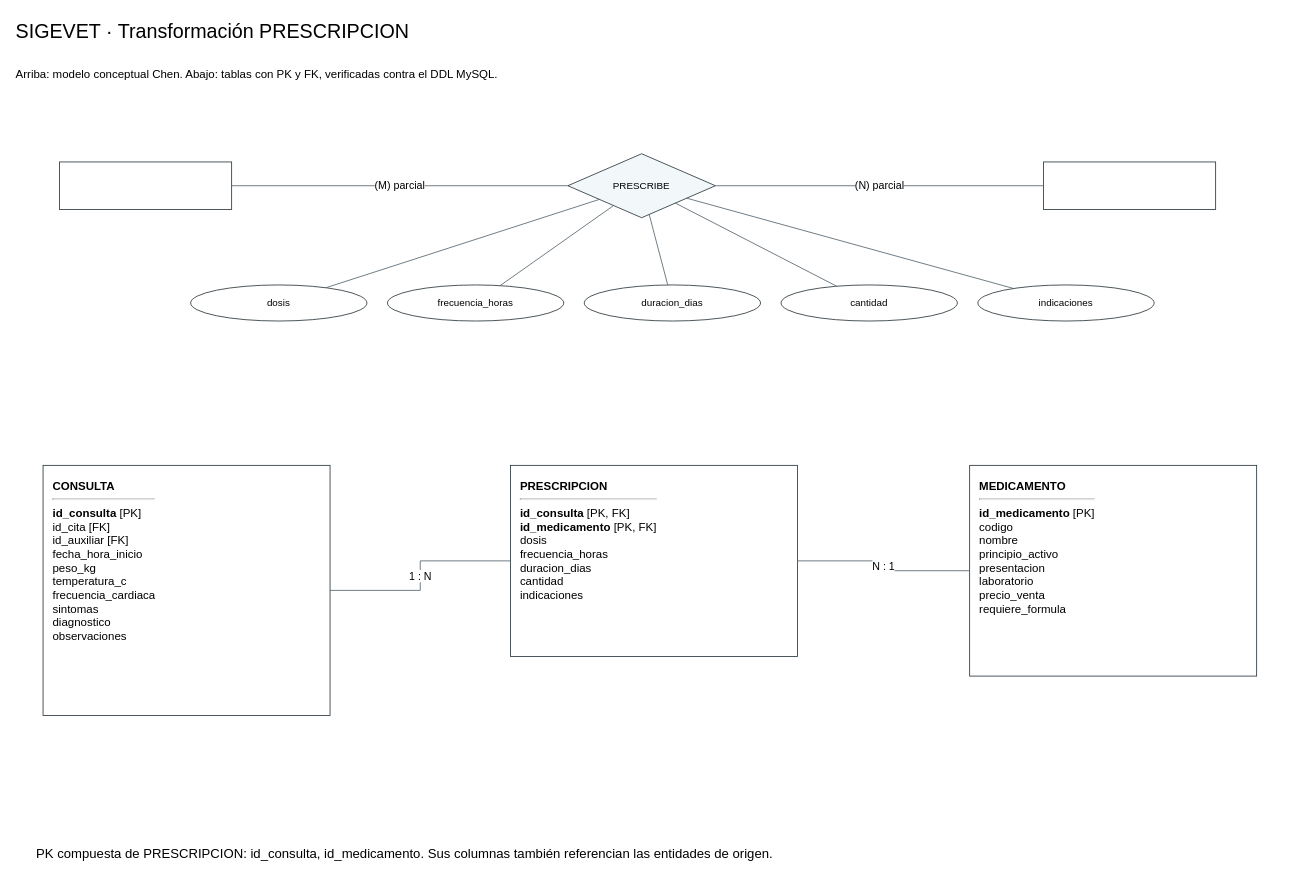
Image size: 1307x893. Some labels were removed from this diagram. Here are the shapes that lost their labels. From the top down, the centre of each, then its label:
point 145,185: CONSULTA
point 1129,185: MEDICAMENTO
